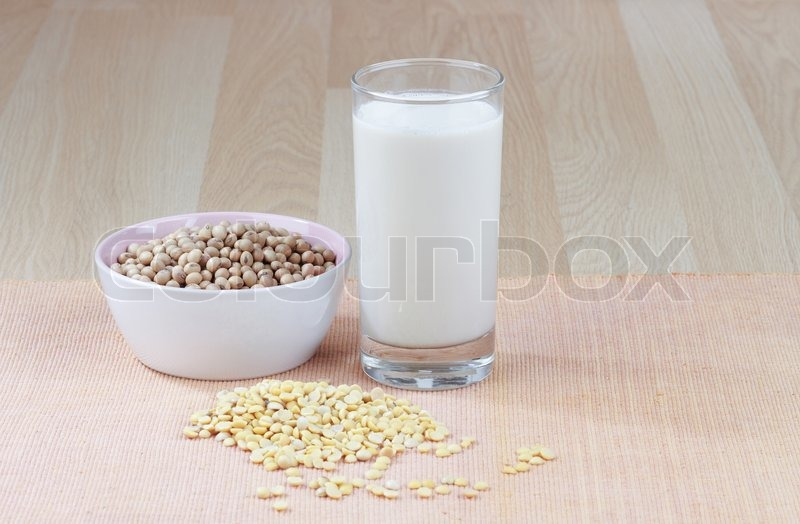glass of milk: (348, 64, 507, 379)
